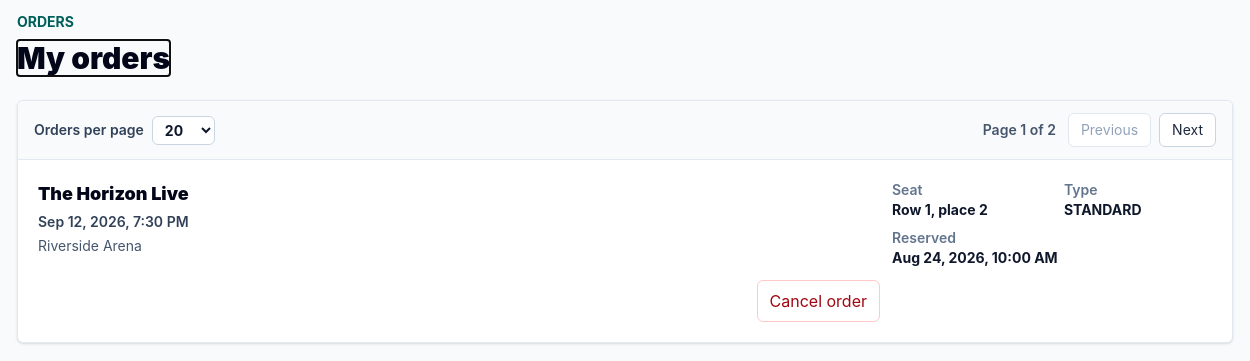
Test: MyOrdersPage › requests the next and previous pages from pagination controls
Expected: the text "Page 1 of 2" is shown, x1=983 y1=120 x2=1056 y2=140
Click the button "Next" at (1188, 130), box x1=1159 y1=113 x2=1216 y2=147
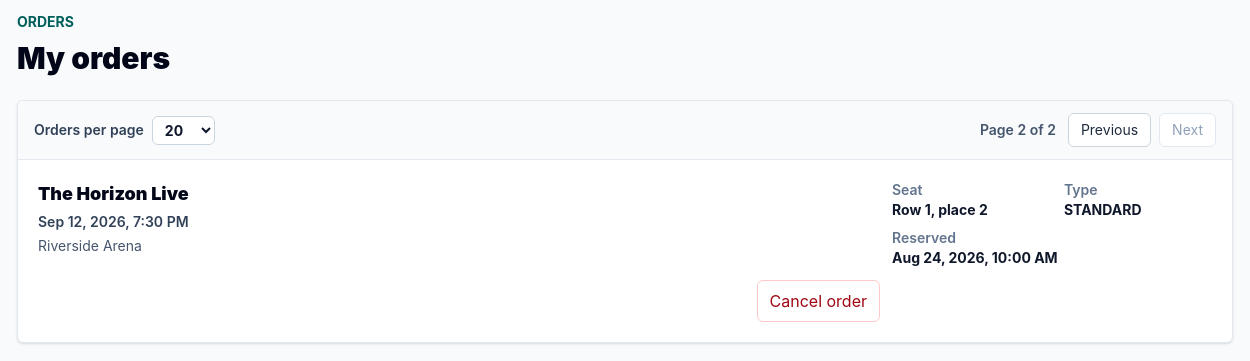
Expected: the text "Page 2 of 2" is shown, x1=980 y1=120 x2=1056 y2=140
Click the button "Previous" at (1110, 130), box x1=1068 y1=113 x2=1151 y2=147
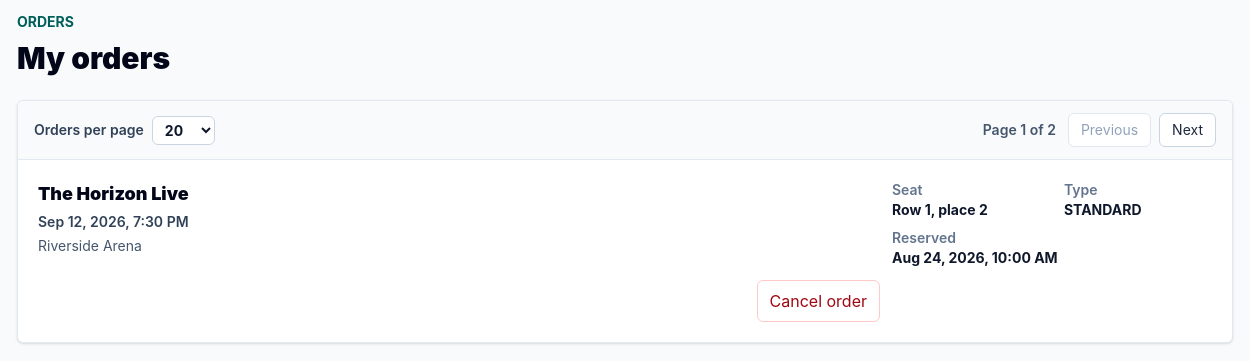
Expected: the text "Page 1 of 2" is shown, x1=983 y1=120 x2=1056 y2=140
